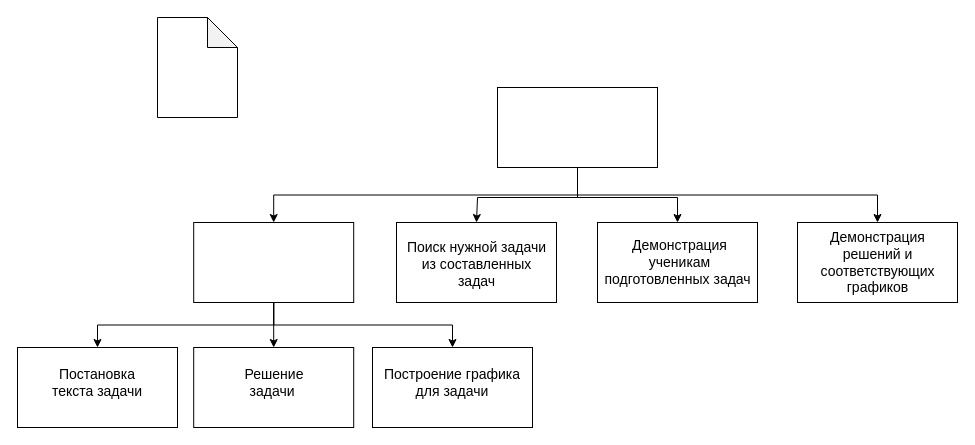
Some shapes in this 975 by 445 pixel diagram are drawn without their labels. The shapes that lost their labels are listed below. From the top down, each one's box as (x1, y1, x2, y2) in pixels, then its label:
(496, 86, 658, 168): Проведение урока математики
(193, 222, 354, 302): Составление новых математических задач и их решений
